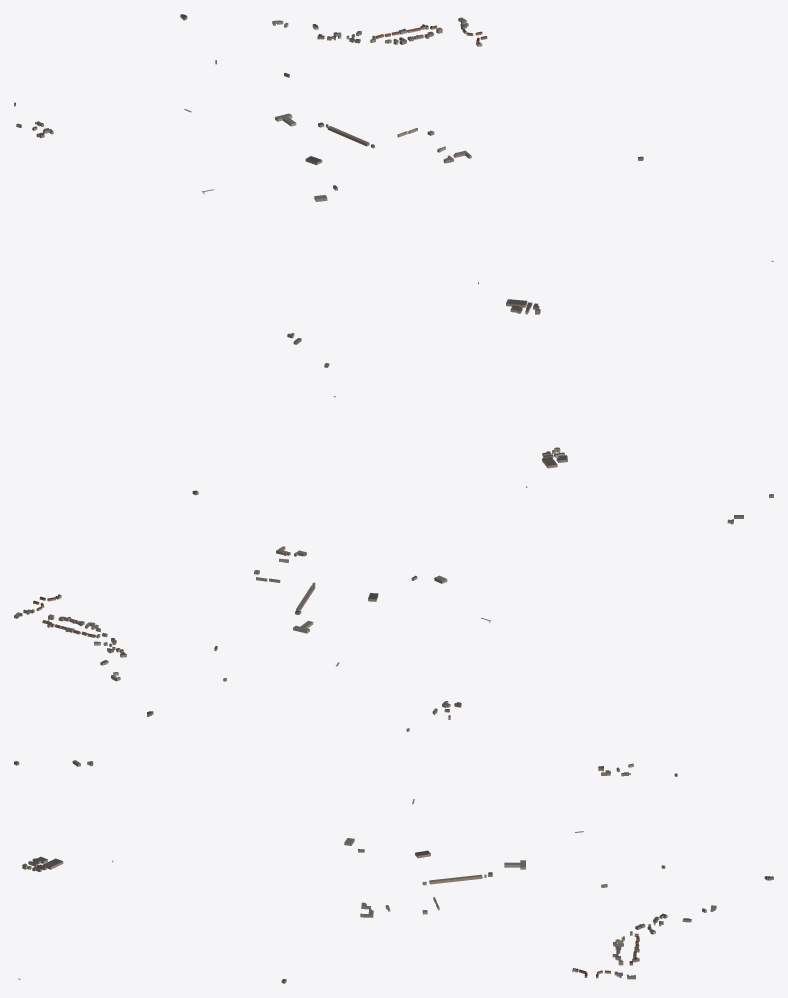
File: scenery.glb
3 renders of one model, top to bottom at view 1: azimuth 30°, elevation 25°; view 2: azimuth 150°, elevation 25°; view 3: azimuth 270°, elevation 25°, orthographic. The views are drawn at different scales.
Parts seen in each view (by area): view 1: chunk_16_13; view 2: no part large enough to name; view 3: chunk_16_13, chunk_15_14.
Boxes of the visible parts, x1,y1,x2,y2 form: chunk_16_13: (272,20,406,77); chunk_16_13: (601,884,716,947); chunk_15_14: (429,831,583,884).
Size of the model in its own units: 1401 by 33.27 by 2083.
